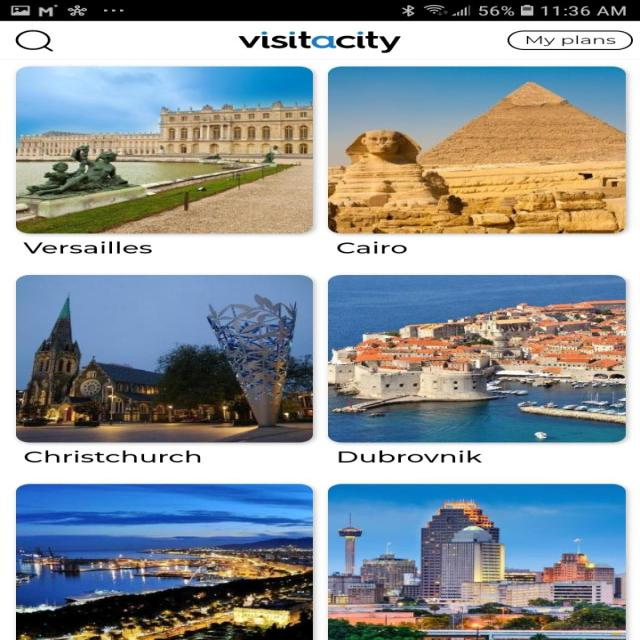Icon: (15, 30, 55, 52)
Image: (326, 66, 625, 234), (15, 66, 313, 234), (15, 275, 313, 442), (327, 275, 625, 442), (327, 483, 626, 640), (15, 484, 313, 640), (237, 31, 402, 53)
Text: (23, 450, 201, 462), (22, 240, 152, 254), (338, 450, 482, 462), (336, 241, 407, 254)
TextButton: (506, 30, 633, 50)
